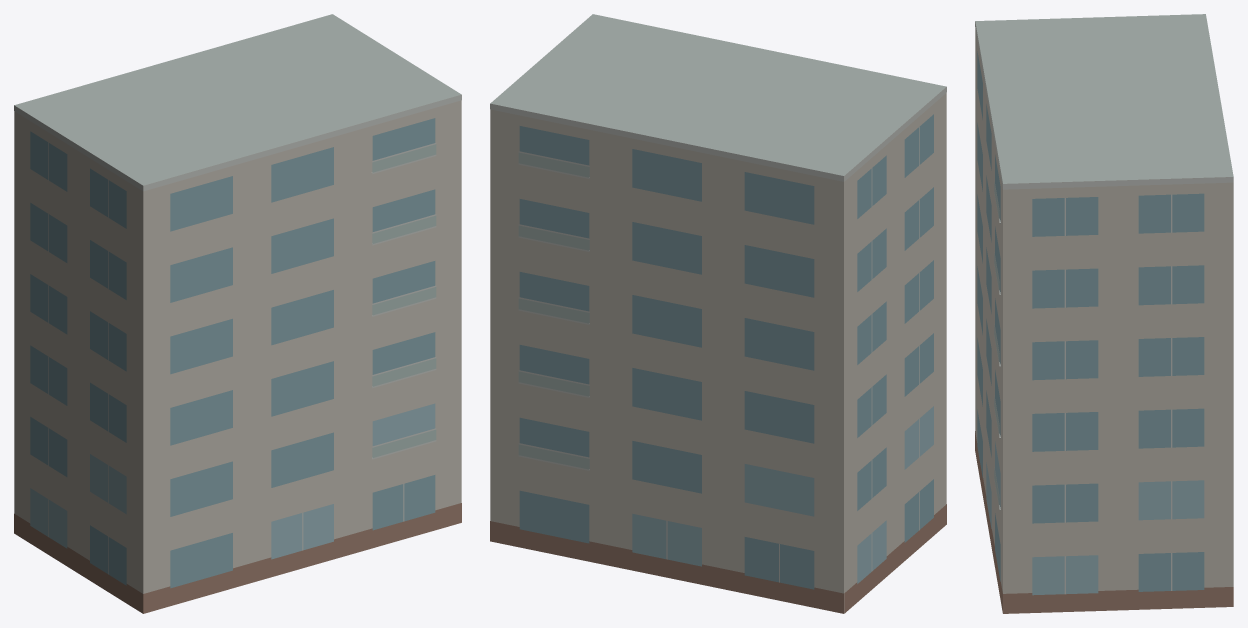
The model's file is survey-upis-33026313.glb.
The picture shows the model from 3 angles, left to right: view 1: azimuth 30°, elevation 25°; view 2: azimuth 150°, elevation 25°; view 3: azimuth 270°, elevation 25°; orthographic projection. The views are drawn at different scales.
Parts seen in each view (by area): view 1: survey-upis-33026313.tmp; view 2: survey-upis-33026313.tmp; view 3: survey-upis-33026313.tmp.
Part boxes in pixels (x1,y1,x2,y2): survey-upis-33026313.tmp: [14, 14, 461, 613]; survey-upis-33026313.tmp: [490, 14, 946, 613]; survey-upis-33026313.tmp: [975, 14, 1233, 613].
Size of the model in its own units: 15.52 by 18.3 by 9.98.
